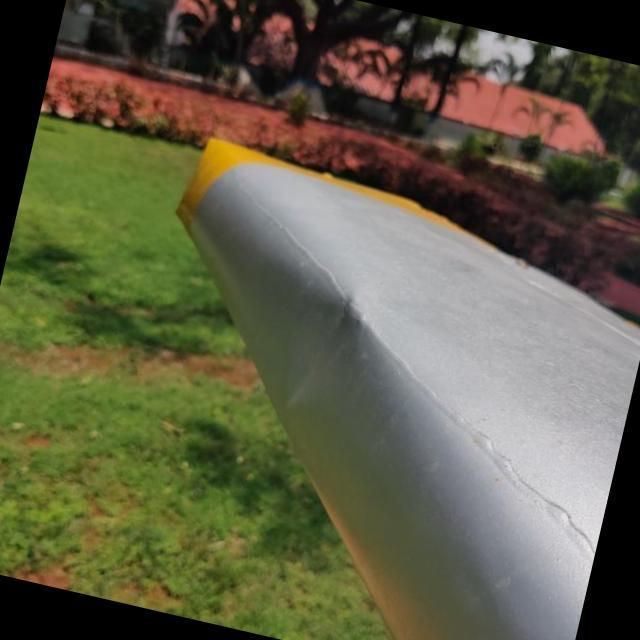Dent: (252, 264, 399, 442)
